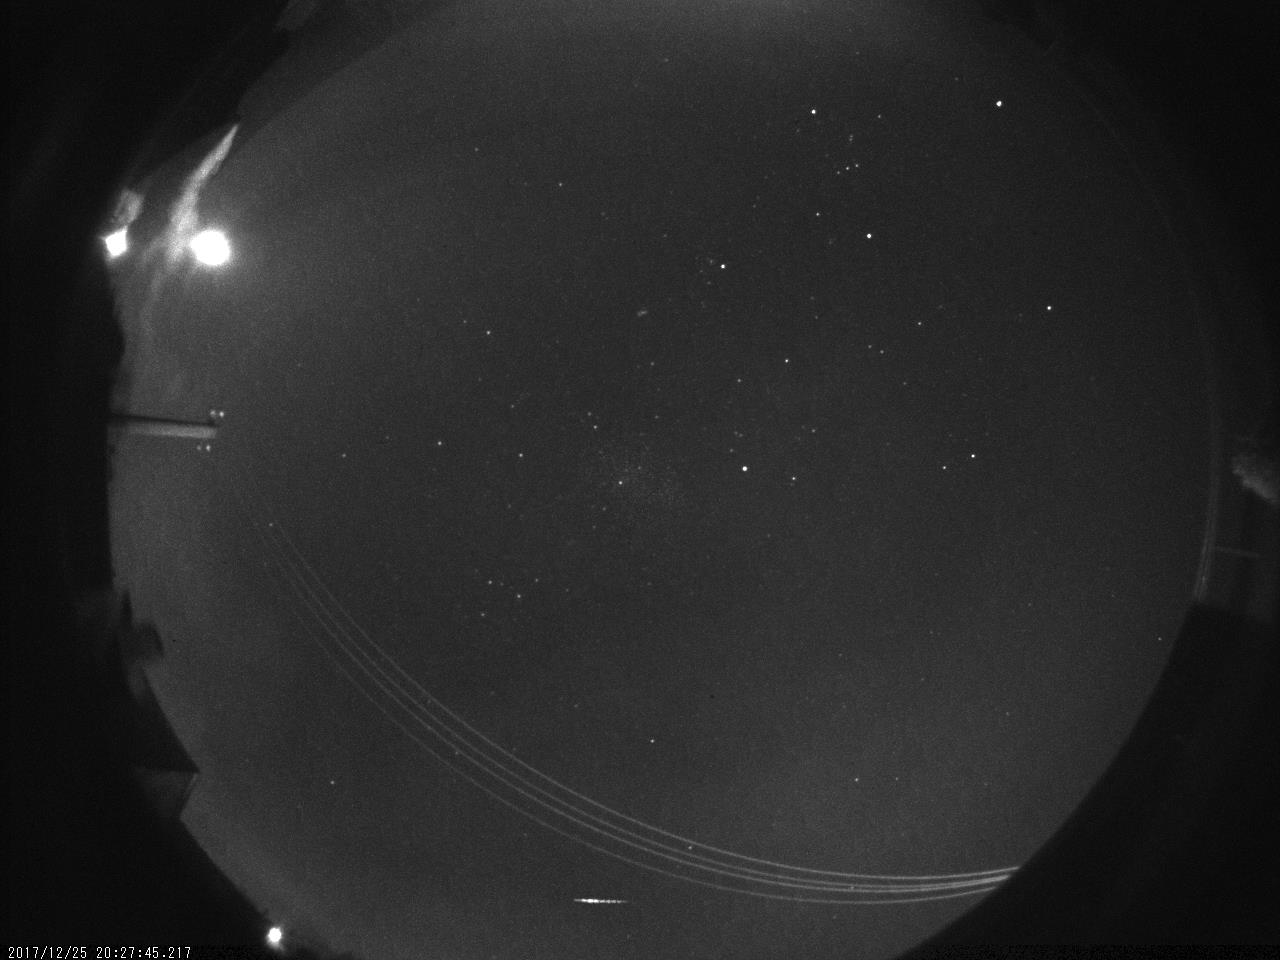meteor: (564, 887, 648, 909)
